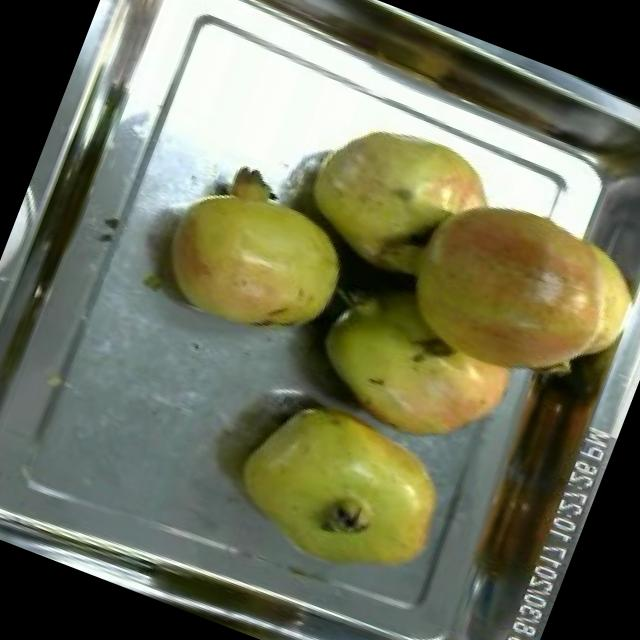fruit: (355, 151, 640, 430), (214, 374, 474, 606), (133, 140, 377, 367), (280, 95, 514, 306)
